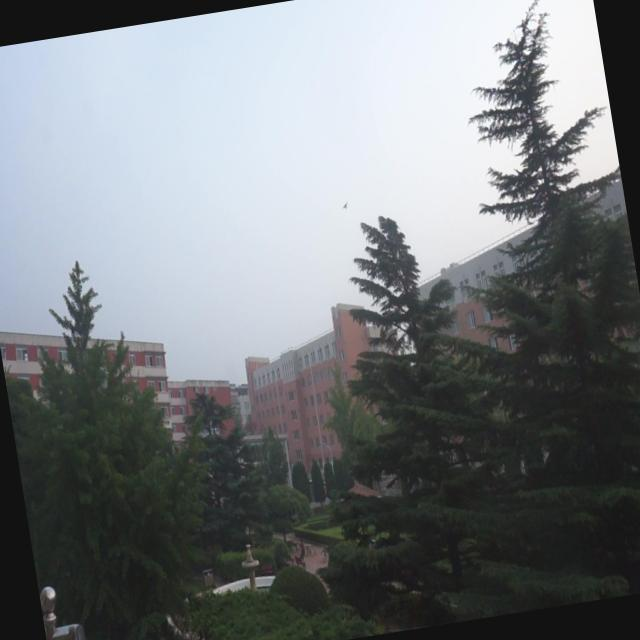drone: (342, 200, 352, 212)
